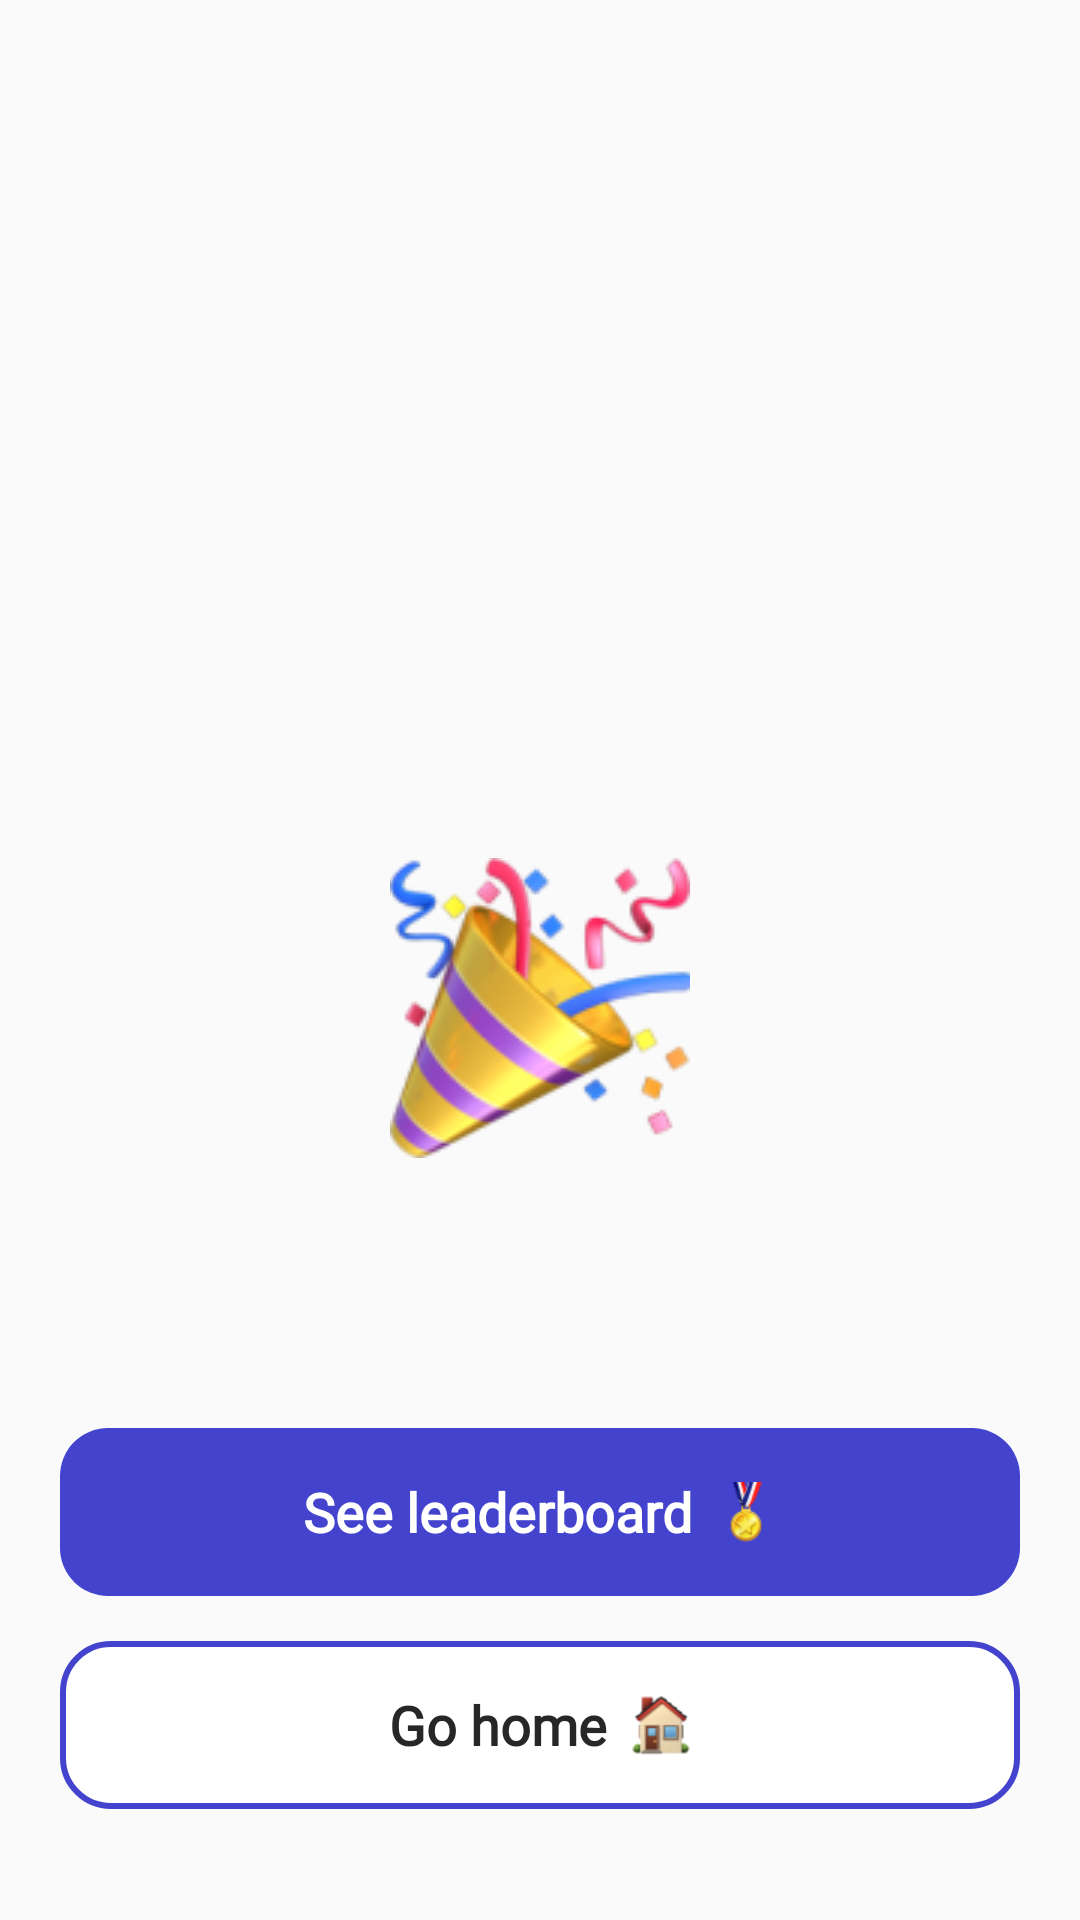

Icon bounding boxes for this 1080 × 1920 phone screenshot, format (left=x1, top=y1, right=x2, bottom=y2):
congrats: (left=390, top=858, right=690, bottom=1158)
